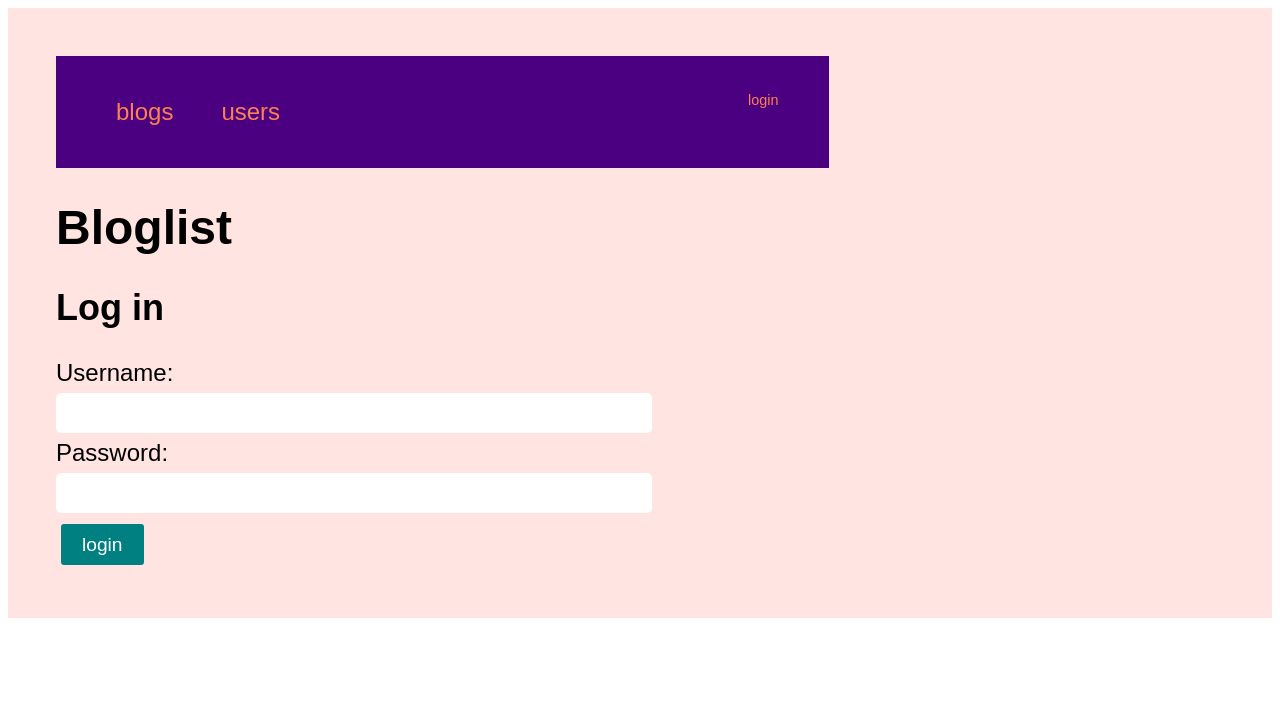
it: Bloglist › Login › login fails with wrong username
Type "tesTpers" into the field with id "username" at (354, 413), box [56,393,652,433]
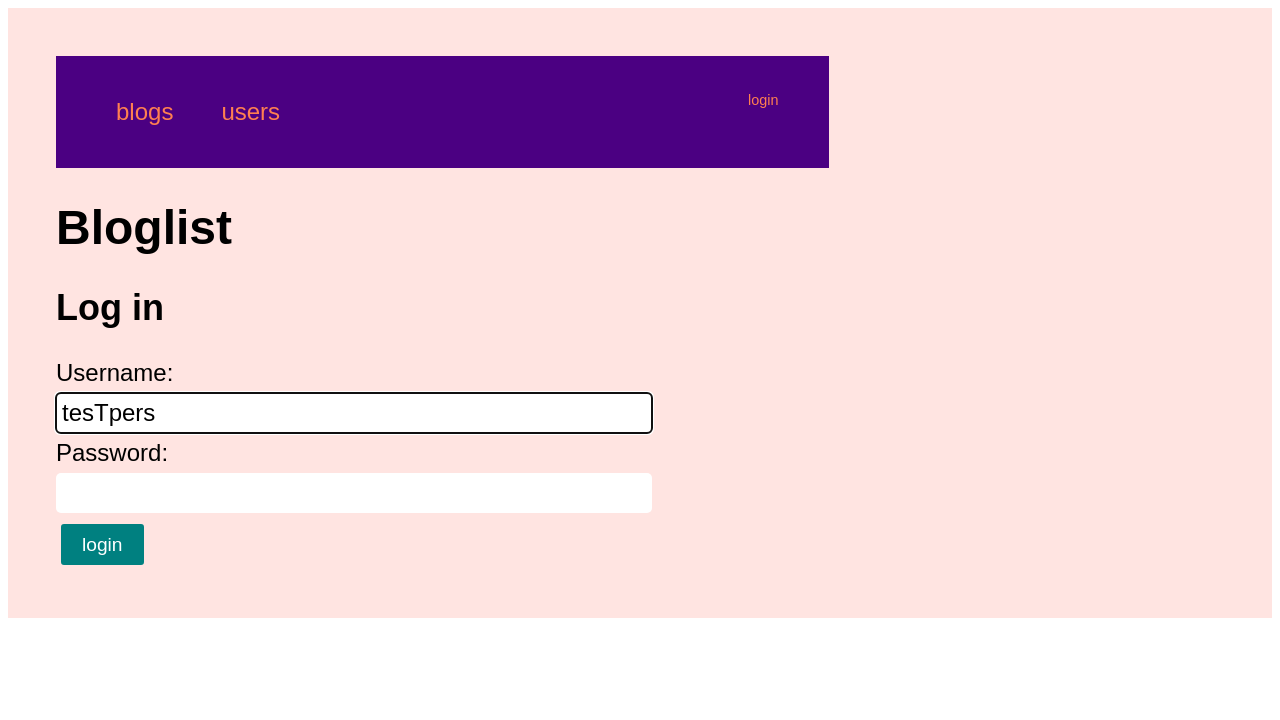
Type "secret" into the password field at (354, 493), box [56,473,652,513]
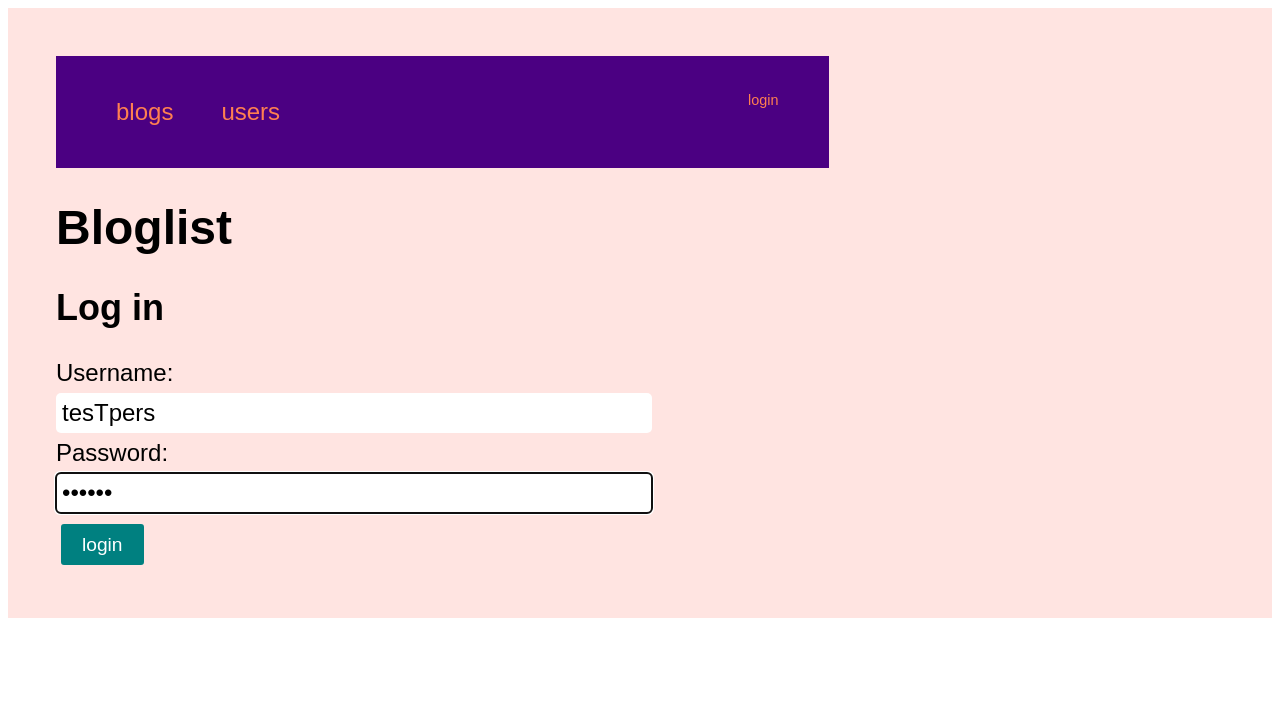
Click the button with id "login-button" at (103, 545), box [61,524,144,565]
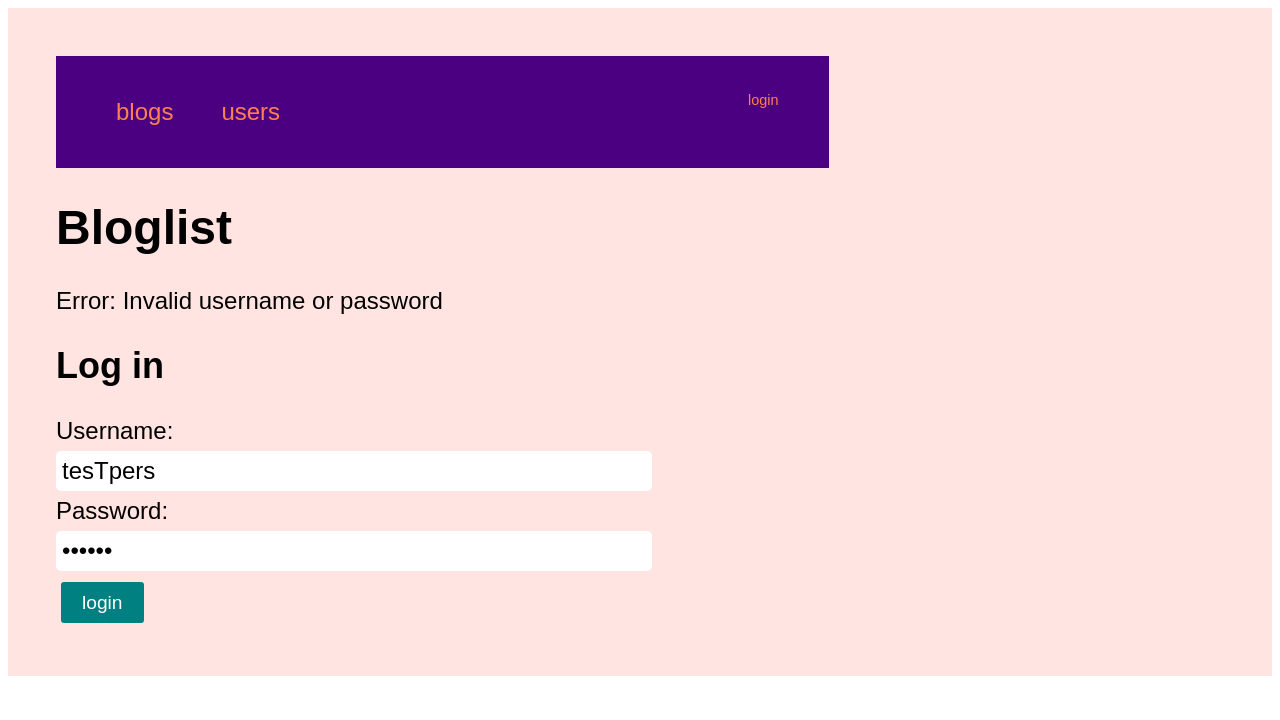
Now the text with class "errorField" shows "Invalid username or password", box [123,287,443,314]
